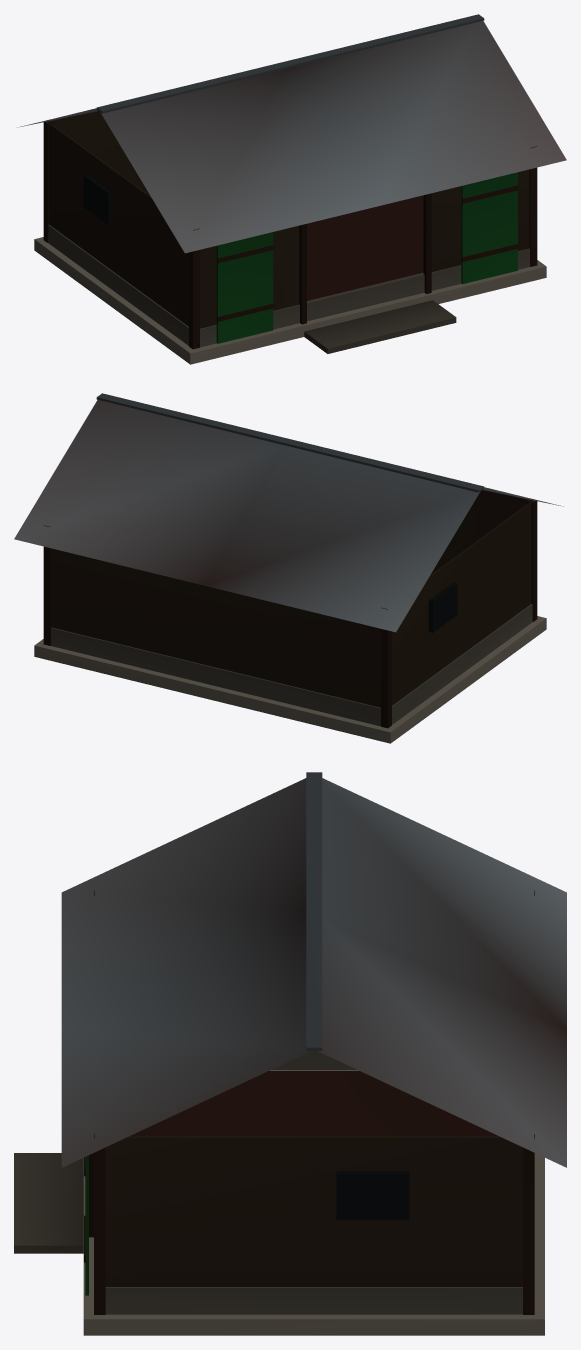
Rendered from fm_barn_lod1.glb.
The picture shows the model from 3 angles, top to bottom: view 1: azimuth 30°, elevation 25°; view 2: azimuth 150°, elevation 25°; view 3: azimuth 270°, elevation 25°; orthographic projection. The views are drawn at different scales.
Visible parts, largest first — view 1: fm_barn_lod1; view 2: fm_barn_lod1; view 3: fm_barn_lod1.
Part boxes in pixels (x1,y1,x2,y2): fm_barn_lod1: (17,14,566,364); fm_barn_lod1: (14,393,563,743); fm_barn_lod1: (14,772,566,1335).
Bounding box in the file's own units: 8.9 × 4.48 × 7.55.
